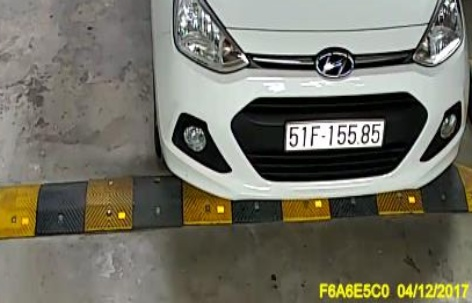plate: (283, 113, 387, 151)
